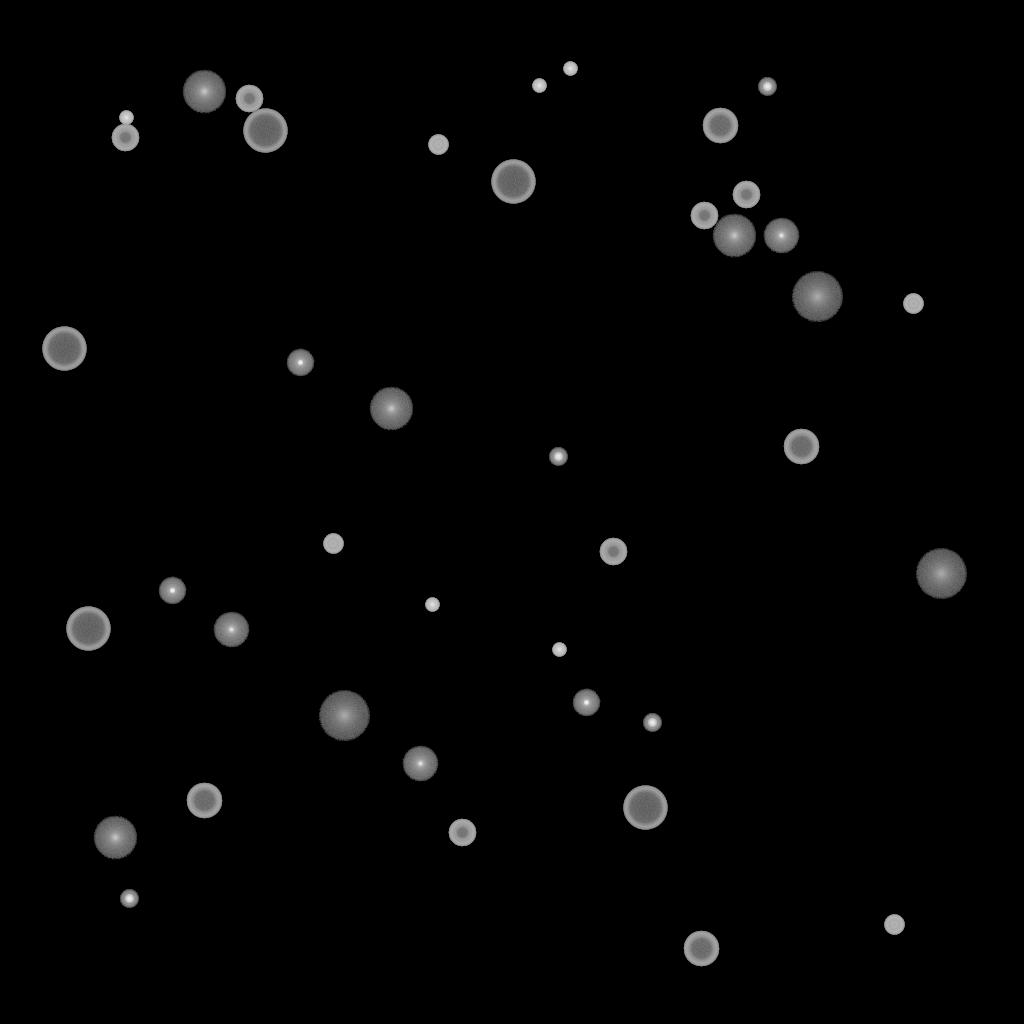depth:-10: (286, 349, 314, 377), (158, 577, 186, 605), (572, 689, 600, 717)
depth:-20: (120, 890, 138, 908), (758, 78, 776, 96), (643, 714, 661, 732), (549, 448, 567, 466)
depth:-30: (425, 598, 439, 612), (119, 111, 133, 125), (552, 643, 566, 657), (532, 79, 546, 93), (563, 62, 577, 76)
depth:-40: (323, 534, 343, 554), (884, 915, 904, 935), (903, 294, 923, 314), (428, 135, 448, 155)
depth:-50: (111, 124, 139, 152), (599, 538, 627, 566), (690, 202, 718, 230), (448, 819, 476, 847), (732, 181, 760, 209), (235, 85, 263, 113)
depth:-60: (683, 931, 719, 967), (783, 429, 819, 465), (702, 108, 738, 144), (186, 783, 222, 819)
depth:-70: (42, 327, 86, 371), (491, 160, 535, 204), (623, 786, 667, 830), (66, 607, 110, 651), (243, 109, 287, 153)
depth:0: (213, 612, 249, 648), (763, 218, 799, 254), (402, 746, 438, 782)
depth:10: (93, 816, 137, 860), (712, 214, 756, 258), (182, 70, 226, 114), (369, 387, 413, 431)
depth:20: (318, 691, 370, 741), (915, 549, 967, 599), (791, 272, 843, 322)
